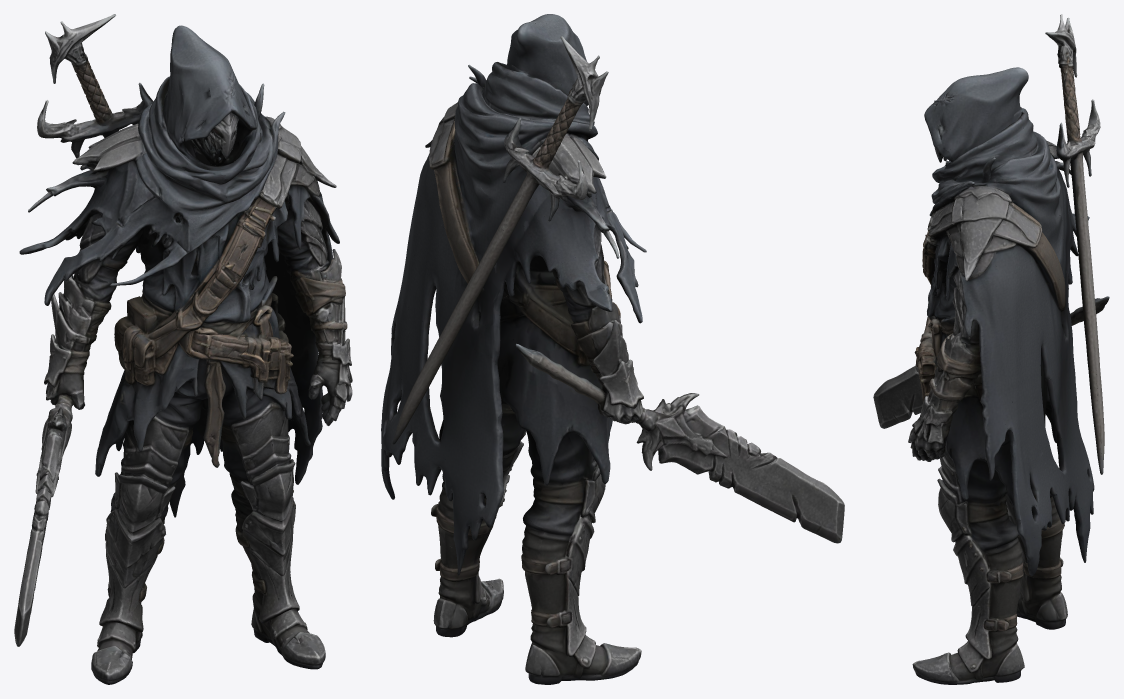
Rendered from hooded.glb.
3 renders of one model, left to right at view 1: azimuth 30°, elevation 25°; view 2: azimuth 150°, elevation 25°; view 3: azimuth 270°, elevation 25°, orthographic. The views are drawn at different scales.
Parts seen in each view (by area): view 1: tripo_node_8b55e19e-223c-4fd1-bbc5-69ef4c9ae6c4; view 2: tripo_node_8b55e19e-223c-4fd1-bbc5-69ef4c9ae6c4; view 3: tripo_node_8b55e19e-223c-4fd1-bbc5-69ef4c9ae6c4.
Part boxes in pixels (x1,y1,x2,y2): tripo_node_8b55e19e-223c-4fd1-bbc5-69ef4c9ae6c4: [14, 14, 352, 684]; tripo_node_8b55e19e-223c-4fd1-bbc5-69ef4c9ae6c4: [381, 14, 844, 684]; tripo_node_8b55e19e-223c-4fd1-bbc5-69ef4c9ae6c4: [873, 14, 1109, 684].
Bounding box in the file's own units: 1.17 × 1.85 × 0.6747.
1 material, 1 textured.
